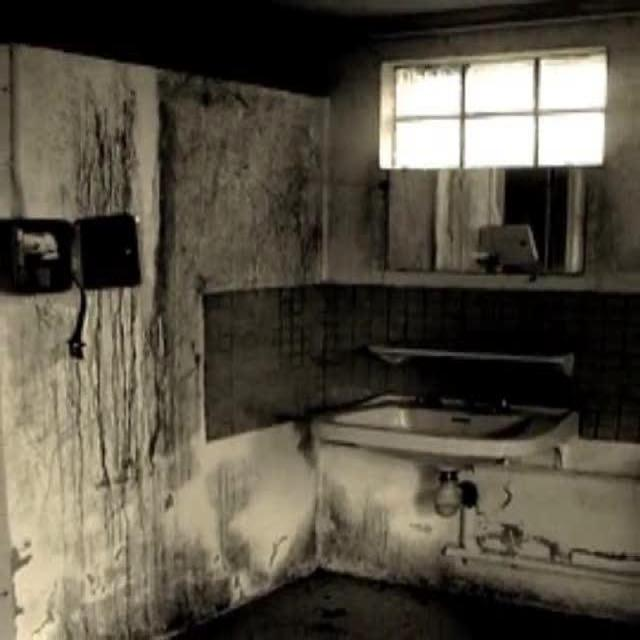other: (371, 62, 621, 171)
